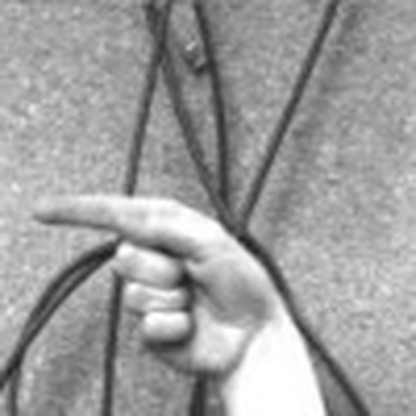g: (19, 193, 268, 371)
